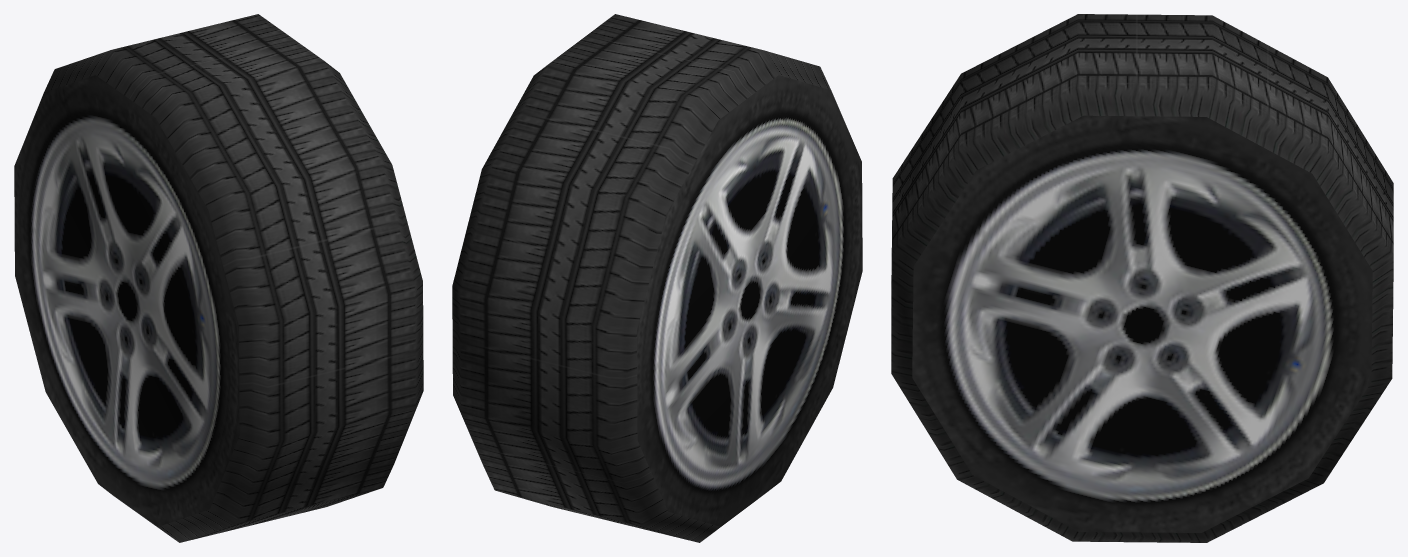
Rendered from WheelModernMuscle.FBX.
3 renders of one model, left to right at view 1: azimuth 30°, elevation 25°; view 2: azimuth 150°, elevation 25°; view 3: azimuth 270°, elevation 25°, orthographic. The views are drawn at different scales.
Visible parts, largest first — view 1: wheelModernMuscle001; view 2: wheelModernMuscle001; view 3: wheelModernMuscle001.
Boxes of the visible parts, bbox=[...] form: wheelModernMuscle001: bbox=[14, 14, 423, 542]; wheelModernMuscle001: bbox=[452, 14, 862, 542]; wheelModernMuscle001: bbox=[891, 14, 1393, 542].
Bounding box in the file's own units: 36.08 × 83.45 × 83.45.
